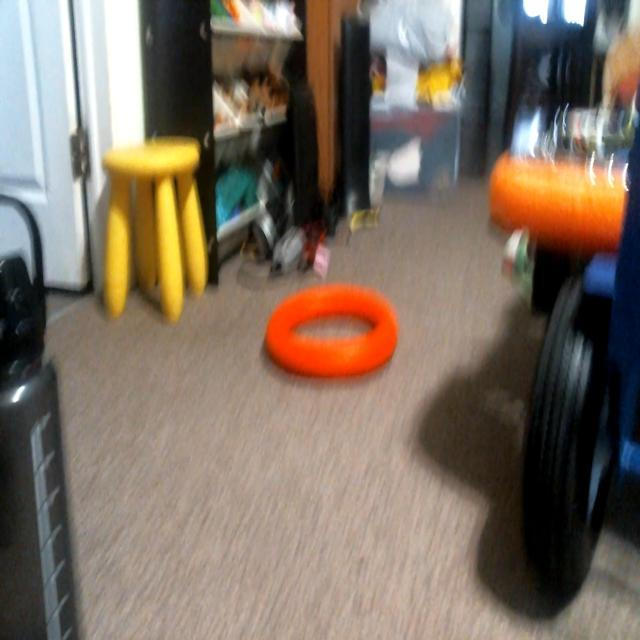note: (265, 278, 400, 378)
